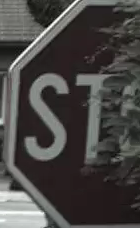Stop: (9, 12, 136, 211)
